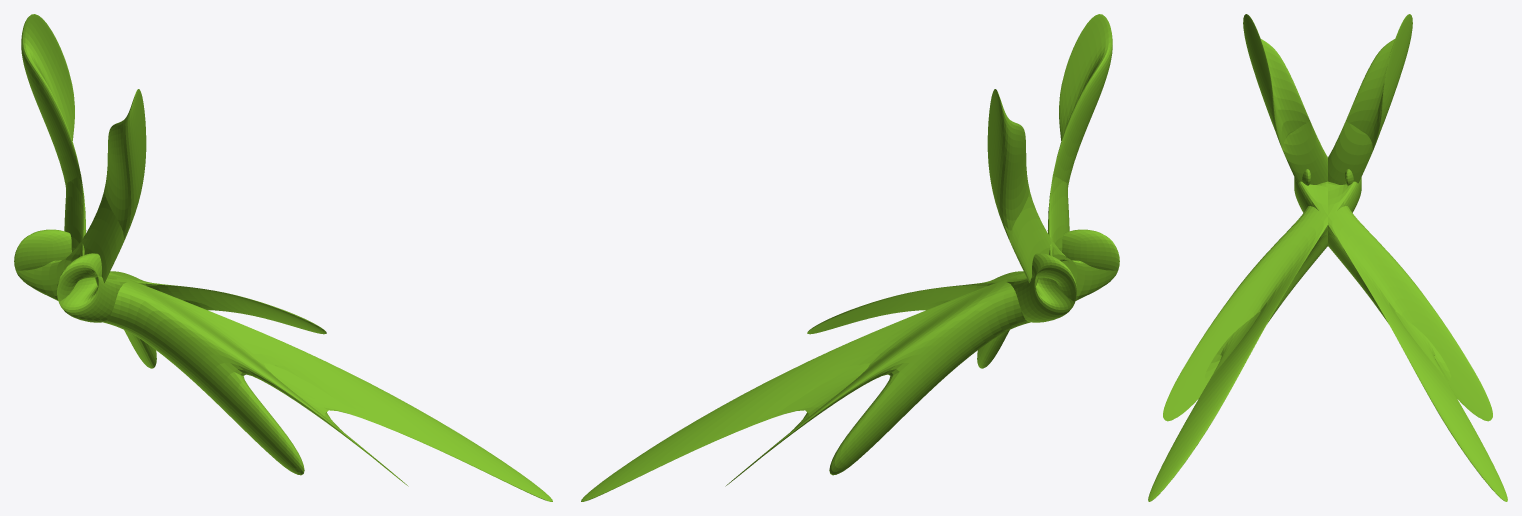
The model's file is Creaturestruc20.obj.
The picture shows the model from 3 angles, left to right: view 1: azimuth 30°, elevation 25°; view 2: azimuth 150°, elevation 25°; view 3: azimuth 270°, elevation 25°; orthographic projection. The views are drawn at different scales.
Parts seen in each view (by area): view 1: Cube_Cube.021; view 2: Cube_Cube.021; view 3: Cube_Cube.021.
Part boxes in pixels (x1=…): Cube_Cube.021: x1=14, y1=14, x2=552, y2=501; Cube_Cube.021: x1=581, y1=14, x2=1119, y2=501; Cube_Cube.021: x1=1148, y1=14, x2=1507, y2=501.
Bounding box in the file's own units: 17.71 × 18.96 × 17.5.
